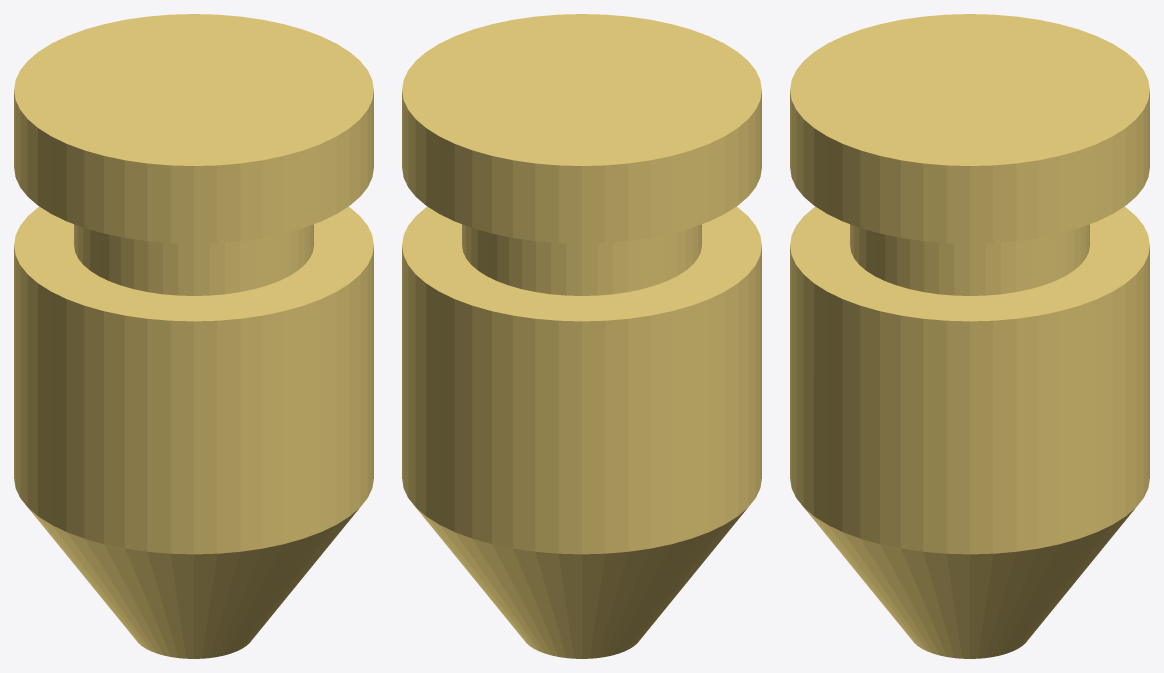
The model's file is Bullet.glb.
3 renders of one model, left to right at view 1: azimuth 30°, elevation 25°; view 2: azimuth 150°, elevation 25°; view 3: azimuth 270°, elevation 25°, orthographic.
Parts seen in each view (by area): view 1: Node1; view 2: Node1; view 3: Node1.
Boxes of the visible parts, x1,y1,x2,y2 form: Node1: [14, 14, 373, 658]; Node1: [402, 14, 761, 658]; Node1: [790, 14, 1149, 658].
Size of the model in its own units: 6 by 10 by 6.
